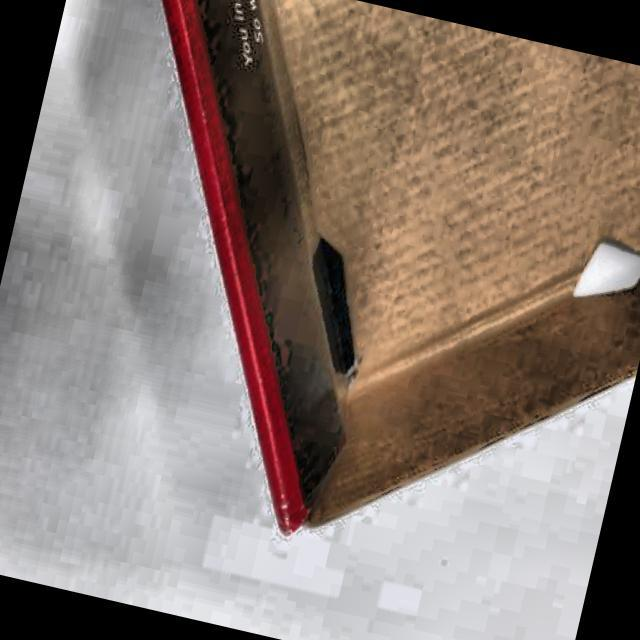cardboard: (10, 0, 640, 604)
